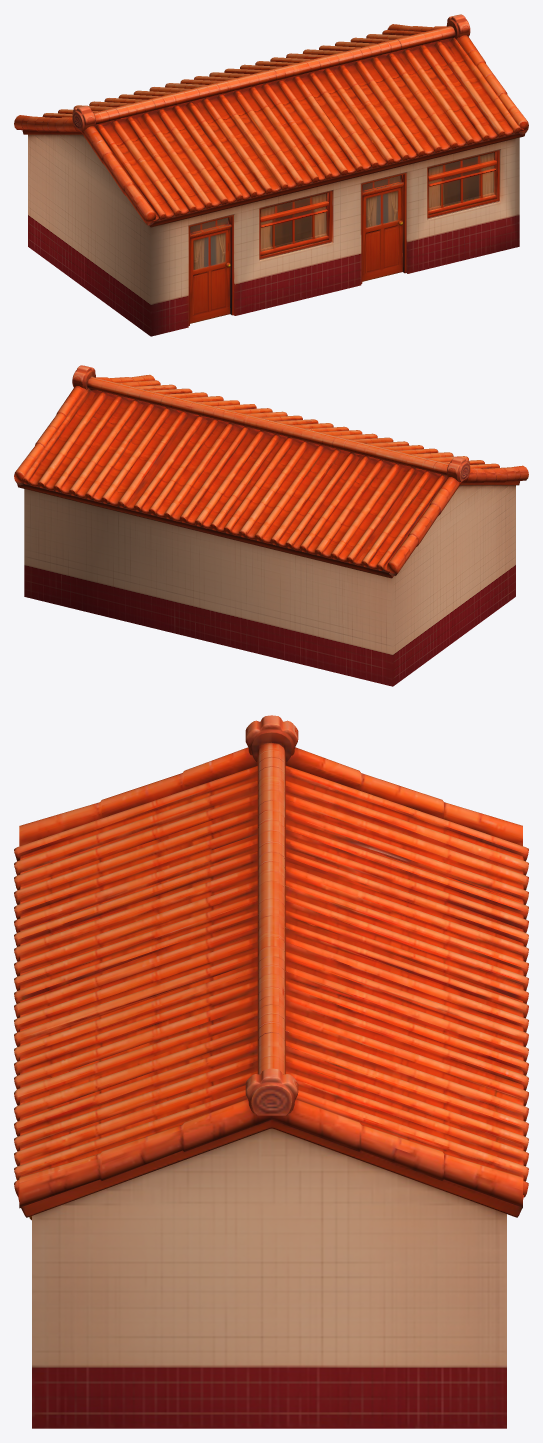
File: inner-side-house.glb
3 views of the same model, one above another, from view 1: azimuth 30°, elevation 25°; view 2: azimuth 150°, elevation 25°; view 3: azimuth 270°, elevation 25° (orthographic). The views are drawn at different scales.
Parts seen in each view (by area): view 1: tripo_node_a9343bdf-e2e9-4dca-92c4-48ec36f23559; view 2: tripo_node_a9343bdf-e2e9-4dca-92c4-48ec36f23559; view 3: tripo_node_a9343bdf-e2e9-4dca-92c4-48ec36f23559.
Part boxes in pixels (x1,y1,x2,y2): tripo_node_a9343bdf-e2e9-4dca-92c4-48ec36f23559: [14, 14, 528, 336]; tripo_node_a9343bdf-e2e9-4dca-92c4-48ec36f23559: [14, 365, 528, 686]; tripo_node_a9343bdf-e2e9-4dca-92c4-48ec36f23559: [14, 715, 528, 1428].
Size of the model in its own units: 0.9995 by 0.4556 by 0.5952.
1 material, 1 textured.
